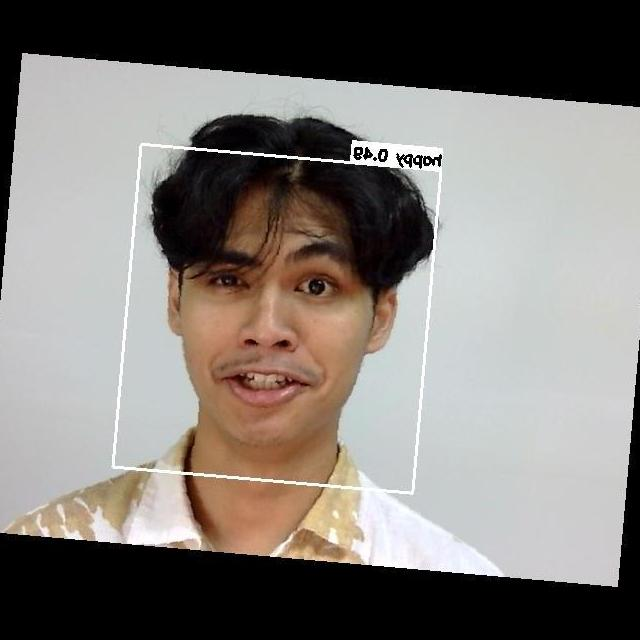Fear: (132, 207, 389, 449)
